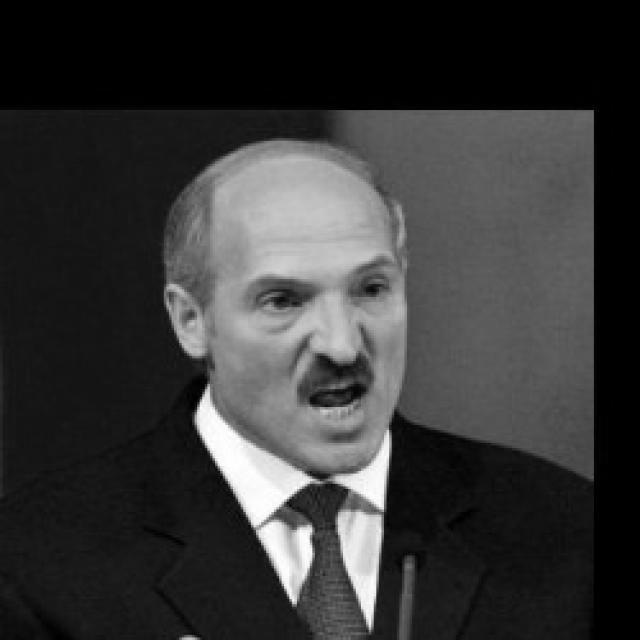real: (176, 141, 414, 459), (236, 265, 411, 322)
